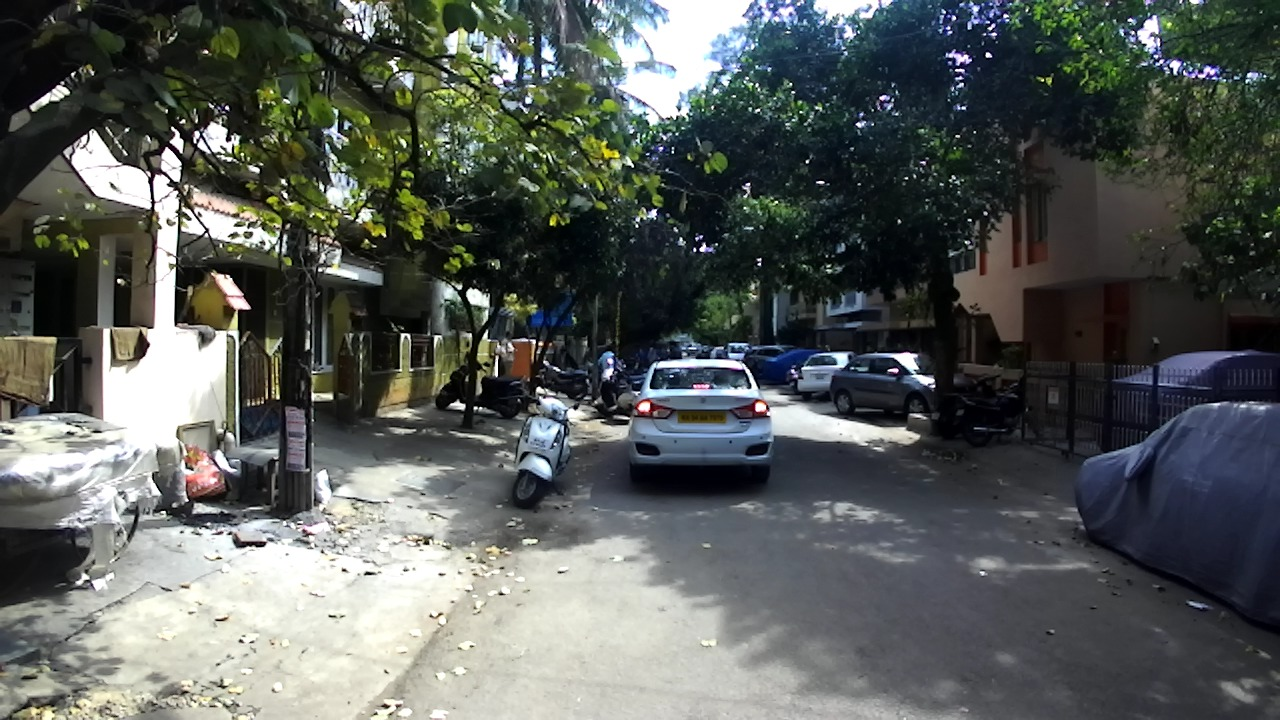car: (1073, 401, 1279, 625), (626, 357, 773, 487), (1109, 349, 1279, 447), (828, 352, 975, 417), (795, 350, 855, 402), (763, 347, 827, 385), (742, 344, 797, 378), (723, 341, 753, 362)
motorcycle: (510, 374, 582, 510), (947, 371, 1047, 448), (433, 339, 528, 420), (940, 370, 1002, 441), (530, 356, 590, 401), (591, 362, 635, 418), (611, 368, 645, 393), (786, 360, 805, 395), (587, 364, 603, 384), (618, 368, 650, 375)
person: (500, 328, 517, 378), (596, 345, 620, 375), (645, 342, 660, 371), (667, 340, 683, 361)
vehicle fallback: (1, 410, 161, 573), (655, 339, 670, 360), (695, 346, 716, 360), (708, 346, 727, 359), (686, 342, 702, 357)
